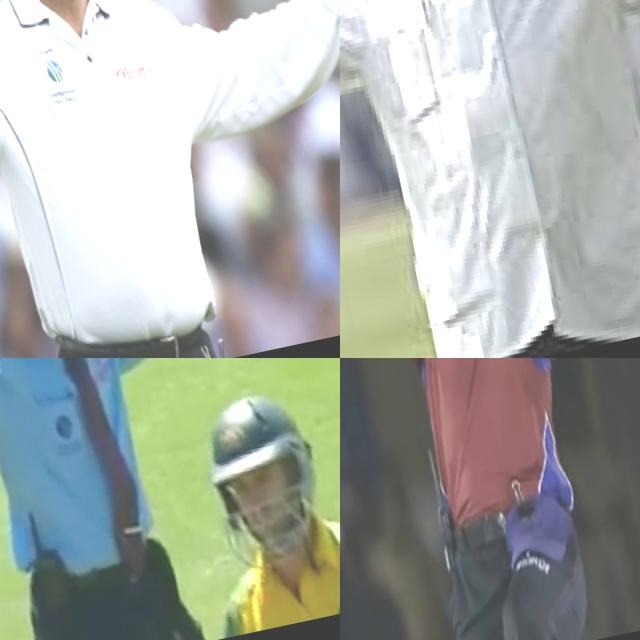Six: (340, 358, 636, 640)
Wide: (0, 0, 340, 358), (340, 0, 640, 358), (0, 358, 340, 640)
